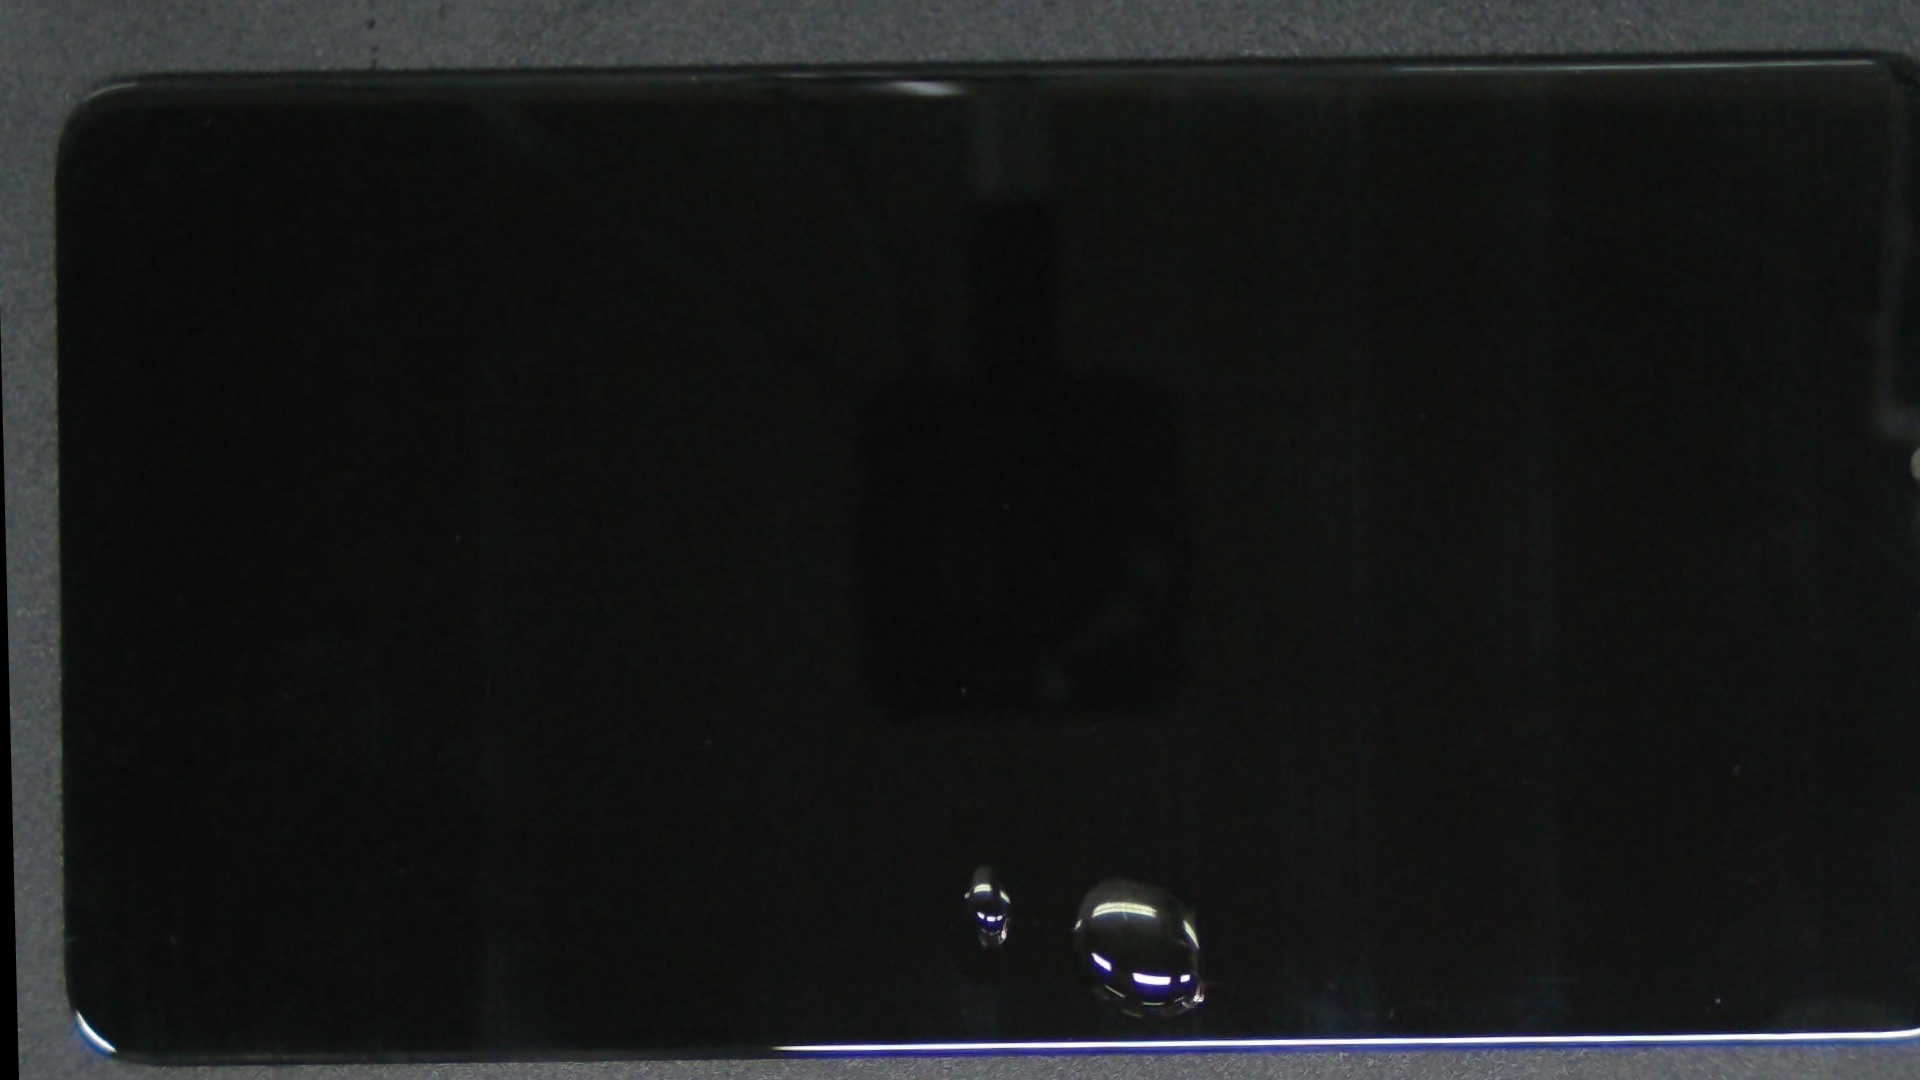oil: (549, 406, 1656, 1080), (487, 401, 1465, 1080)
